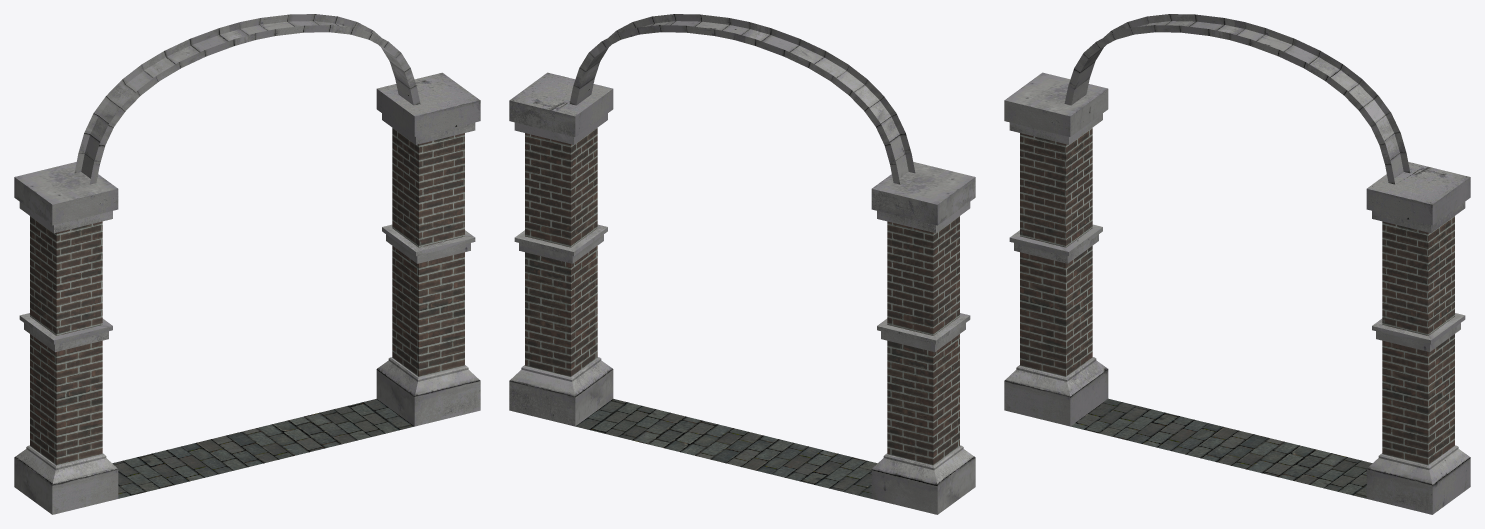
File: PASILLOP2 1.fbx
The picture shows the model from 3 angles, left to right: view 1: azimuth 30°, elevation 25°; view 2: azimuth 150°, elevation 25°; view 3: azimuth 330°, elevation 25°; orthographic projection.
Parts seen in each view (by area): view 1: culumna nueva 051; view 2: culumna nueva 051; view 3: culumna nueva 051.
Part boxes in pixels (x1=…): culumna nueva 051: x1=14, y1=14, x2=480, y2=514; culumna nueva 051: x1=509, y1=14, x2=975, y2=514; culumna nueva 051: x1=1004, y1=14, x2=1470, y2=514.
Size of the model in its own units: 650 by 611 by 100.
